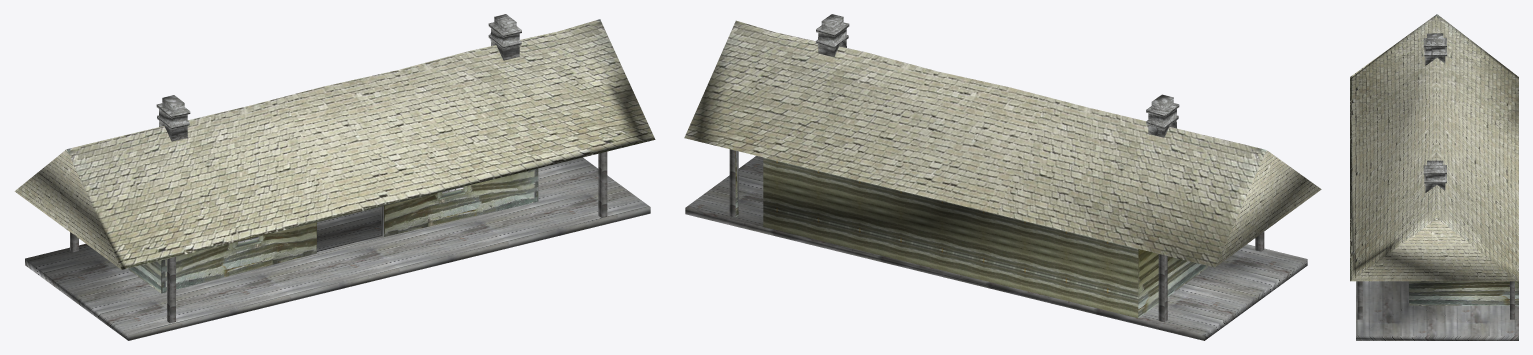
Rendered from hut_2.fbx.
The picture shows the model from 3 angles, left to right: view 1: azimuth 30°, elevation 25°; view 2: azimuth 150°, elevation 25°; view 3: azimuth 270°, elevation 25°; orthographic projection. The views are drawn at different scales.
Parts seen in each view (by area): view 1: U3DMesh; view 2: U3DMesh; view 3: U3DMesh.
Part boxes in pixels (left/top/right/bottom): U3DMesh: left=14, top=14, right=655, bottom=340; U3DMesh: left=684, top=14, right=1321, bottom=340; U3DMesh: left=1350, top=14, right=1518, bottom=340.
Size of the model in its own units: 29.84 by 9.65 by 10.4.
Materials: 6 (5 with a texture image).
